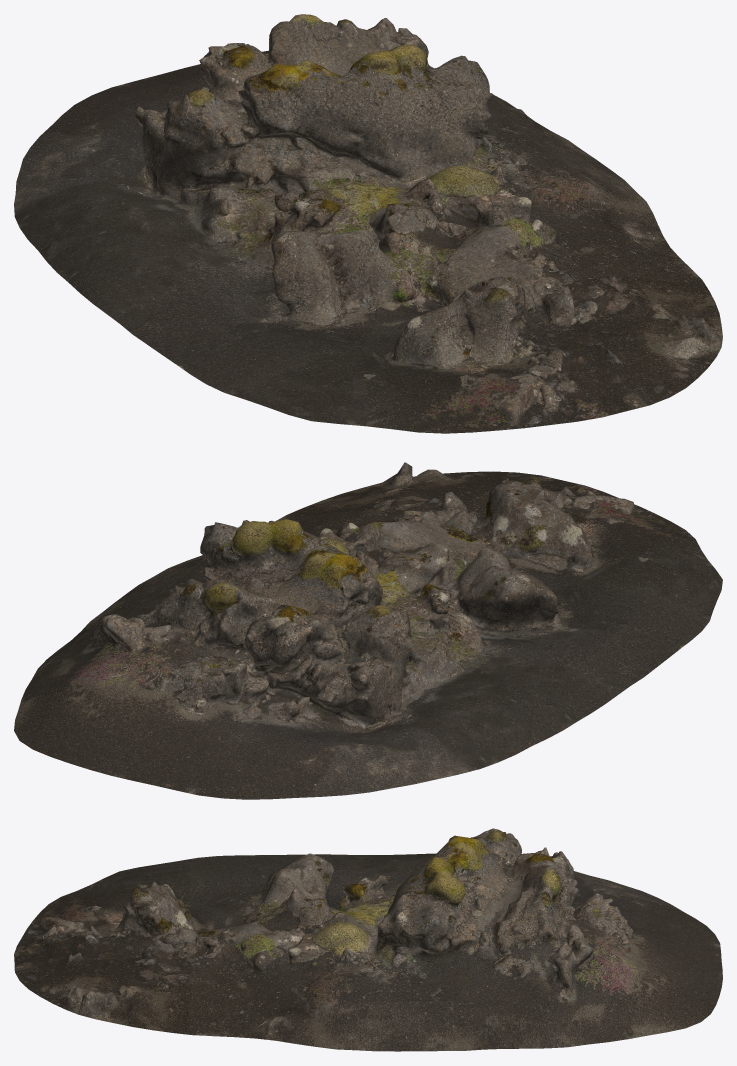
File: sizxl_tier_2.gltf
3 renders of one model, top to bottom at view 1: azimuth 30°, elevation 25°; view 2: azimuth 150°, elevation 25°; view 3: azimuth 270°, elevation 25°, orthographic. The views are drawn at different scales.
Parts seen in each view (by area): view 1: sizxl_LOD0_TIER2_000; view 2: sizxl_LOD0_TIER2_000; view 3: sizxl_LOD0_TIER2_000.
Part boxes in pixels (x1,y1,x2,y2): sizxl_LOD0_TIER2_000: (14, 14, 722, 433); sizxl_LOD0_TIER2_000: (14, 462, 722, 799); sizxl_LOD0_TIER2_000: (14, 828, 722, 1051).
Bounding box in the file's own units: 1.79 × 0.4848 × 2.72.
Materials: 1 (1 with a texture image).
